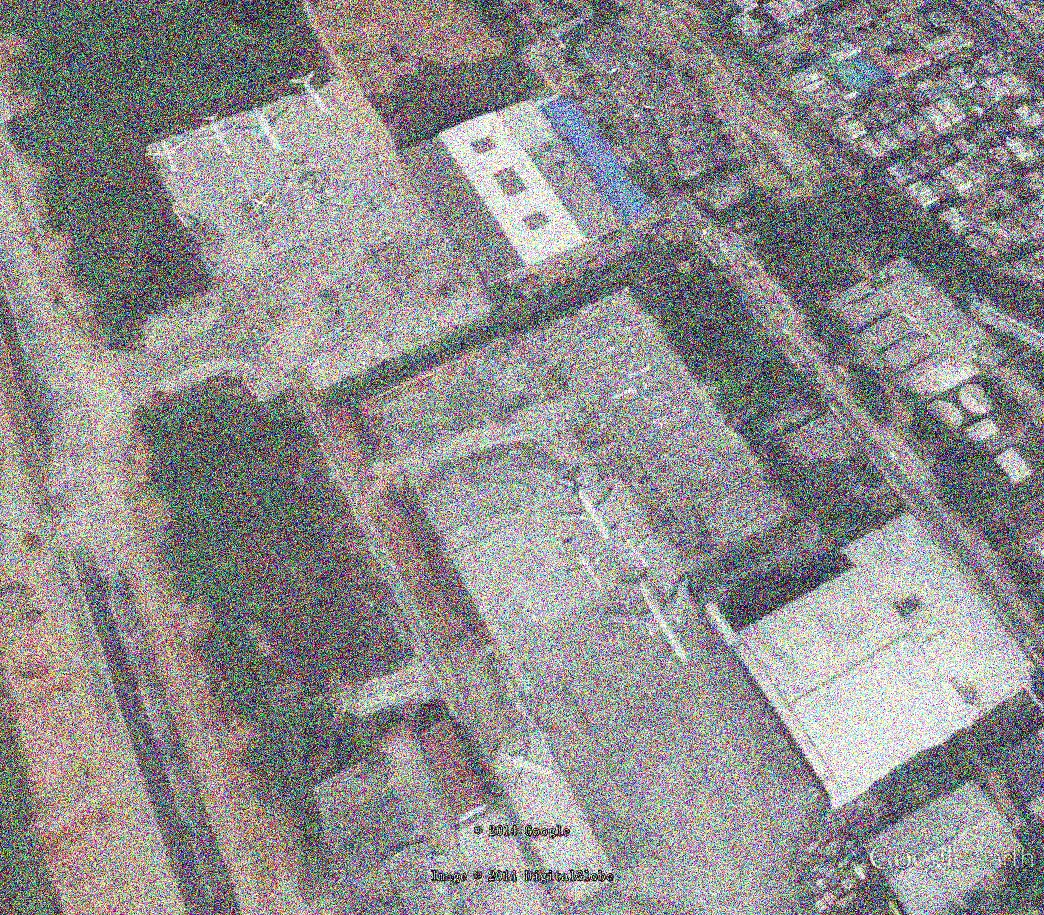aircraft: (603, 567, 699, 667), (546, 466, 622, 546), (489, 726, 561, 790), (229, 97, 300, 154), (279, 67, 343, 120), (556, 534, 609, 592), (606, 516, 655, 576), (139, 127, 190, 177), (192, 111, 240, 160), (246, 187, 282, 217)
